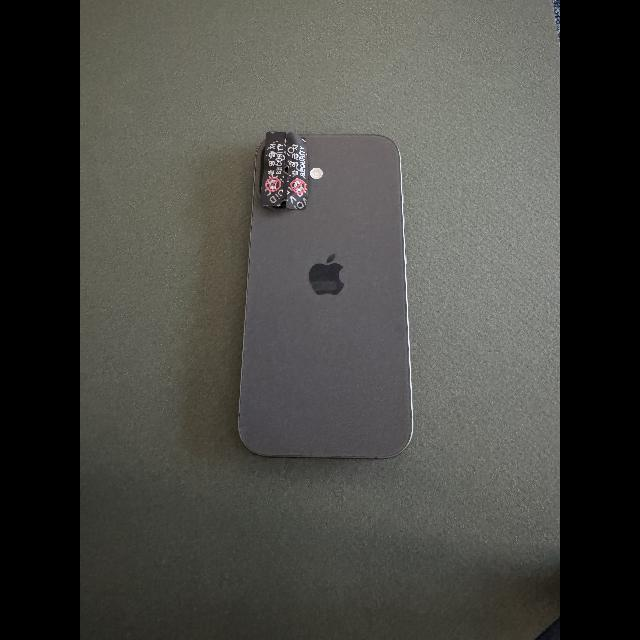phone: (235, 135, 414, 460)
sticker: (262, 132, 307, 210)
